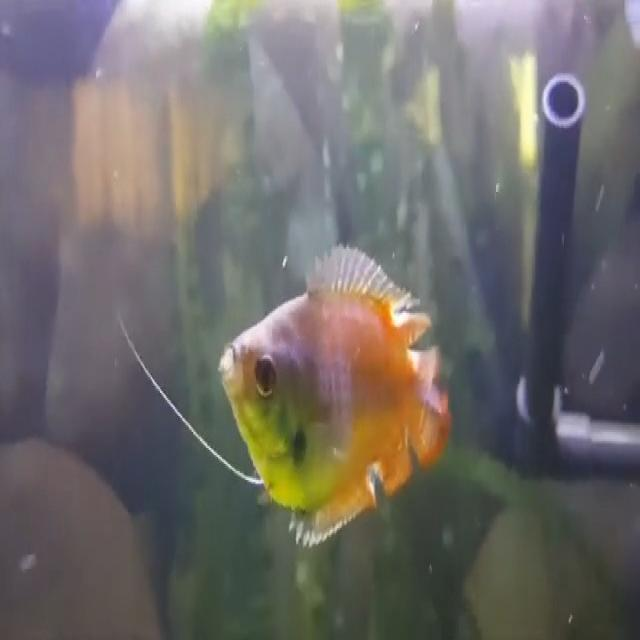fish: (214, 241, 454, 547)
